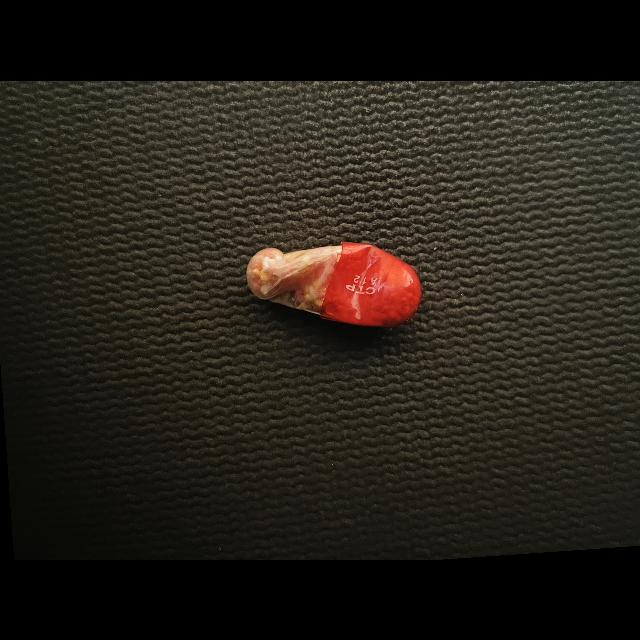Defective Capsule: (247, 241, 421, 326)
